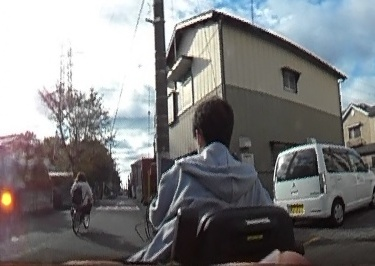person: (141, 99, 280, 266), (69, 171, 91, 224)
